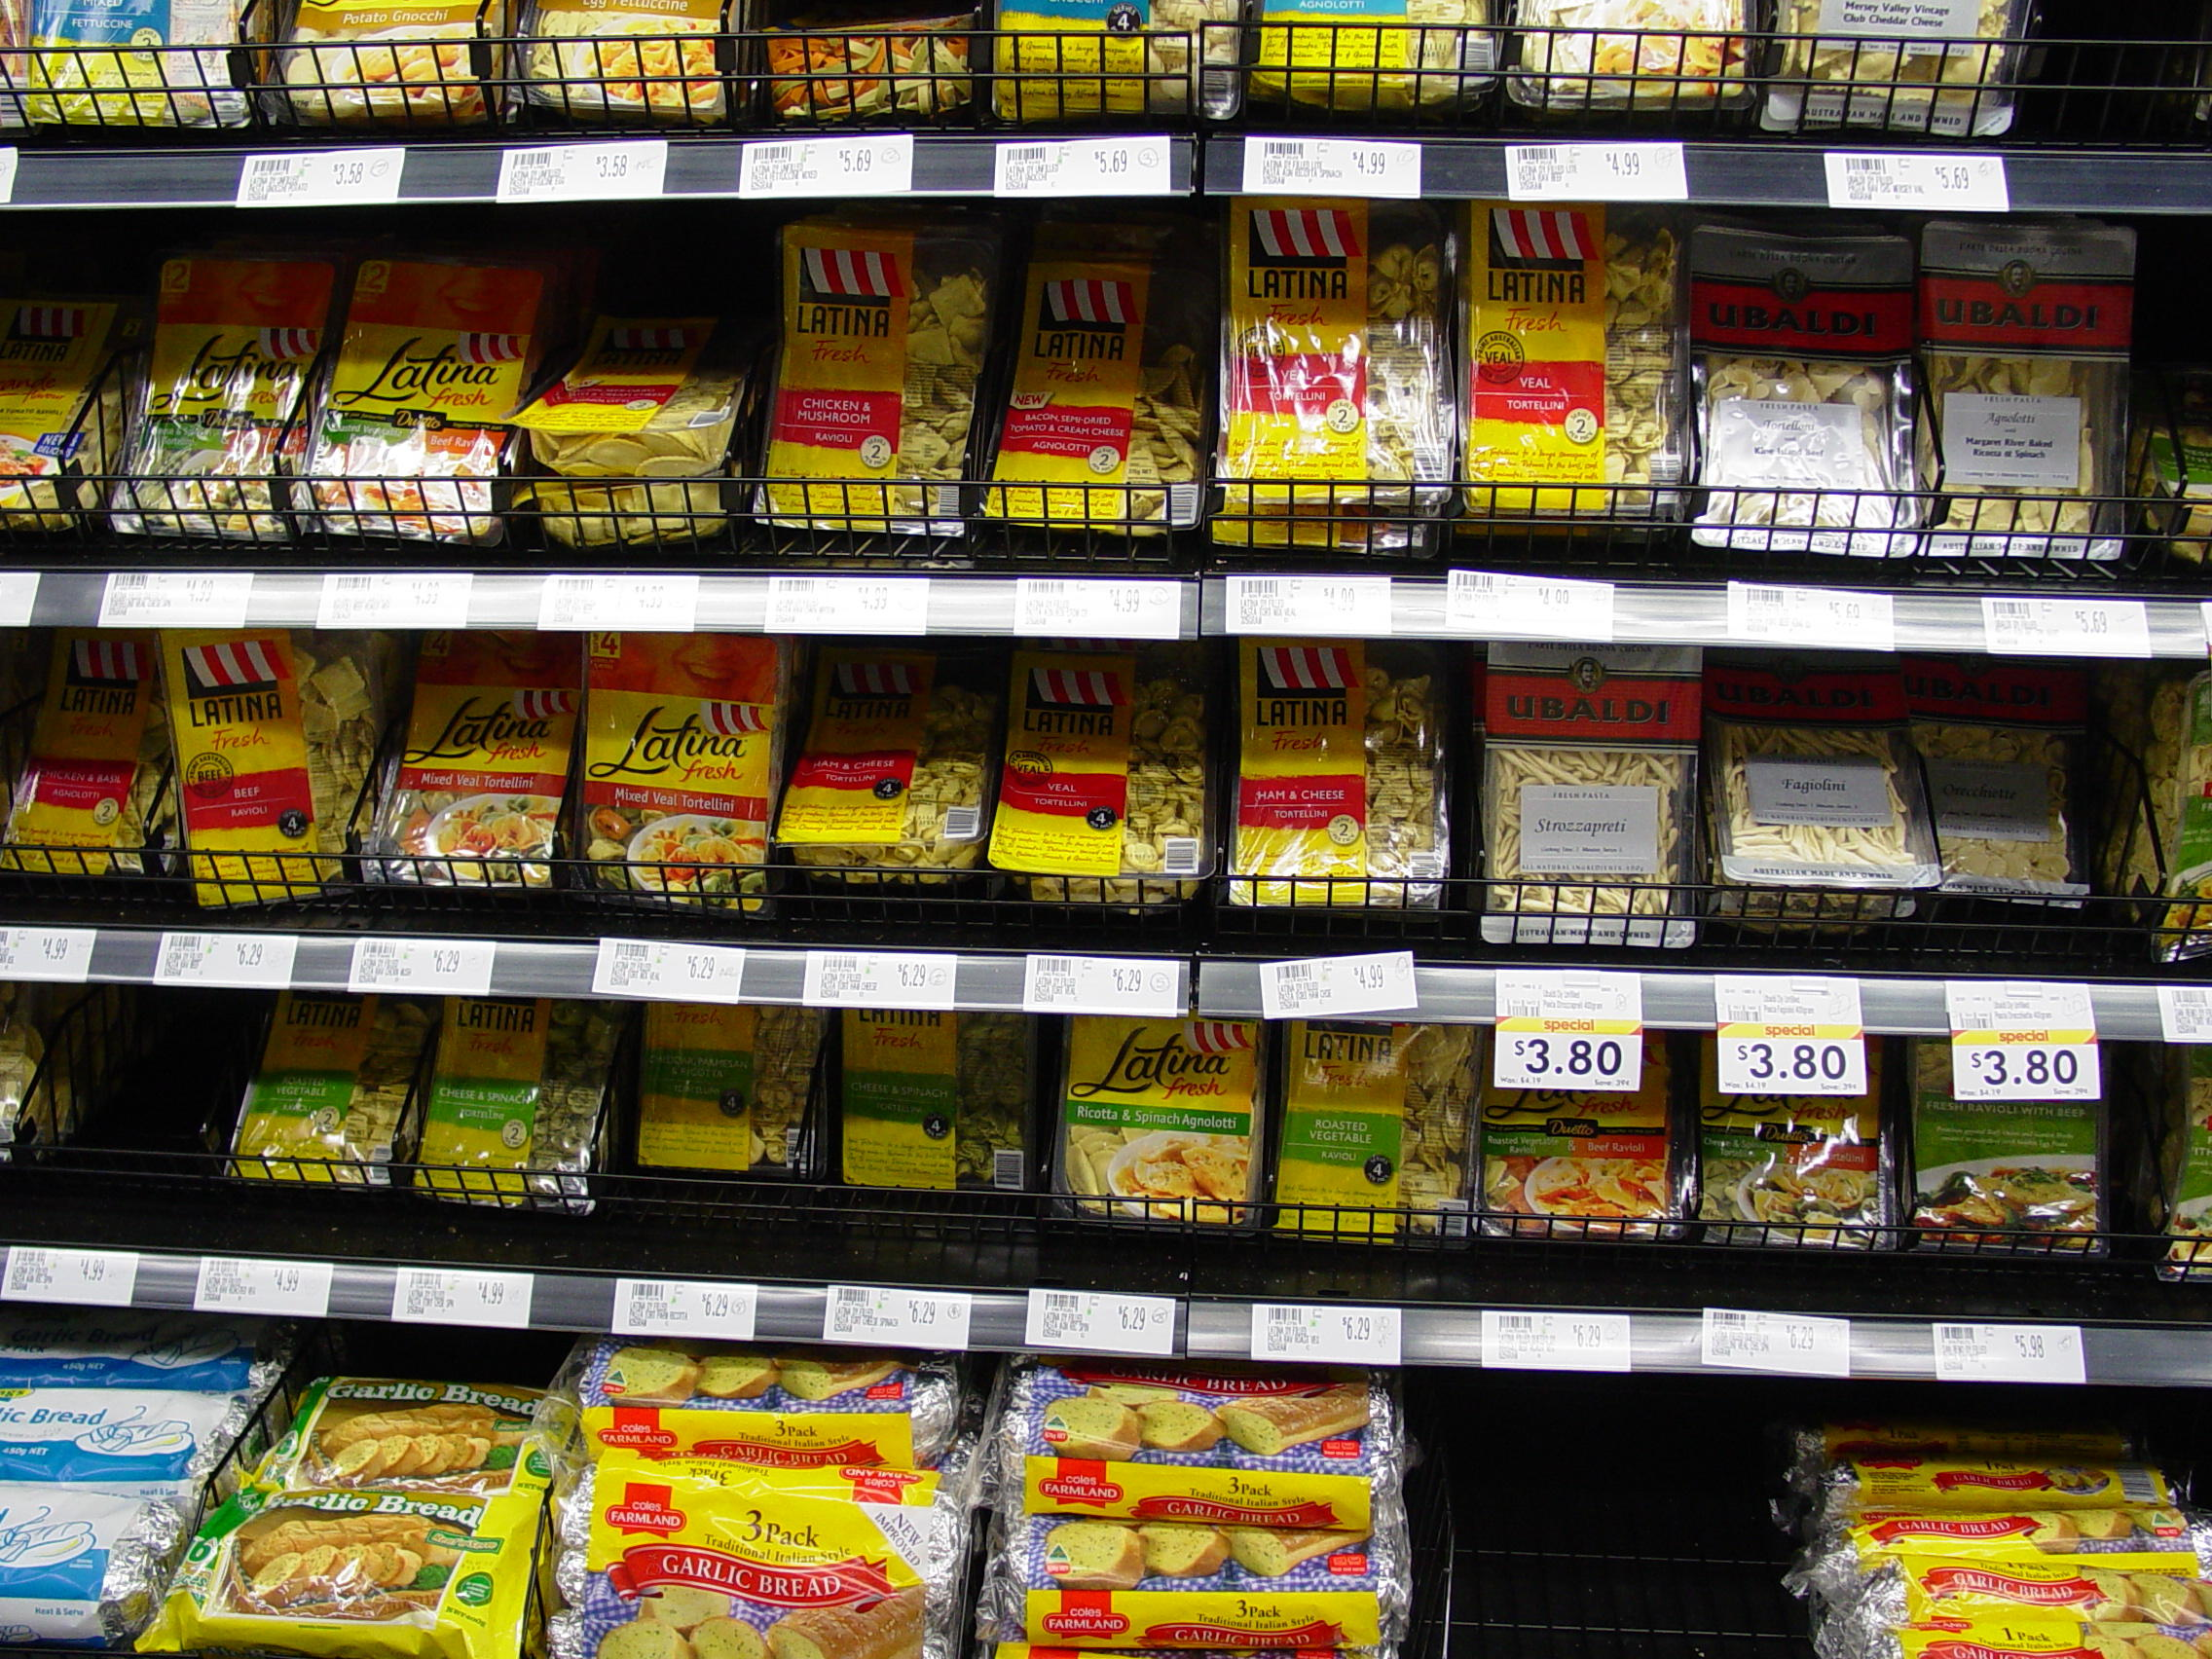Misplacement: (634, 993, 1042, 1270), (526, 237, 752, 566), (780, 659, 989, 936)
Out-of-stock: (77, 1006, 225, 1248)
